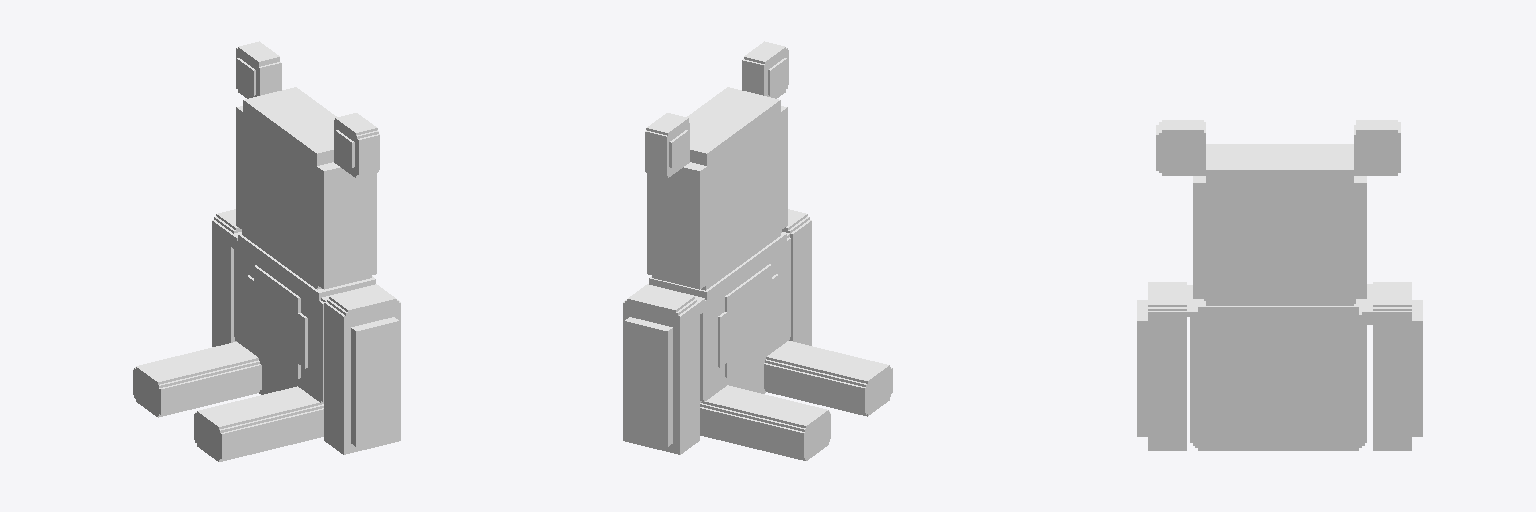
File: teddybearbody.obj
3 views of the same model, side by side, from view 1: azimuth 30°, elevation 25°; view 2: azimuth 150°, elevation 25°; view 3: azimuth 270°, elevation 25° (orthographic).
Parts seen in each view (by area): view 1: object 1; view 2: object 1; view 3: object 1.
Part boxes in pixels (x1,y1,x2,y2): object 1: (133,41,400,461); object 1: (623,41,892,460); object 1: (1137,120,1422,450).
Bounding box in the file's own units: 6.6 × 12.4 × 10.3.